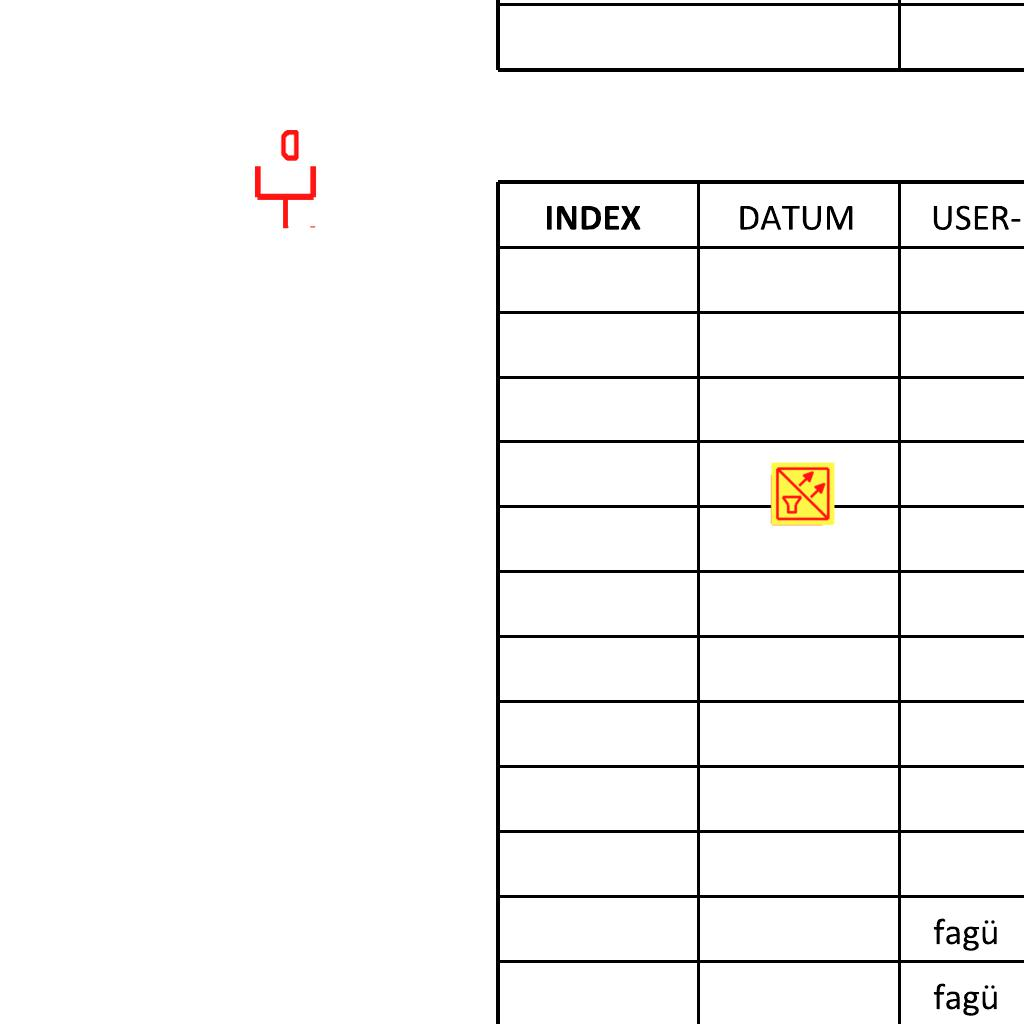Datenanschluss_einfach: (251, 130, 320, 230)
OKW_Multisensormelder_(Kombination_optischer_Rauch-Kahlenmonoxid_Waerme-Melder): (770, 461, 836, 527)
